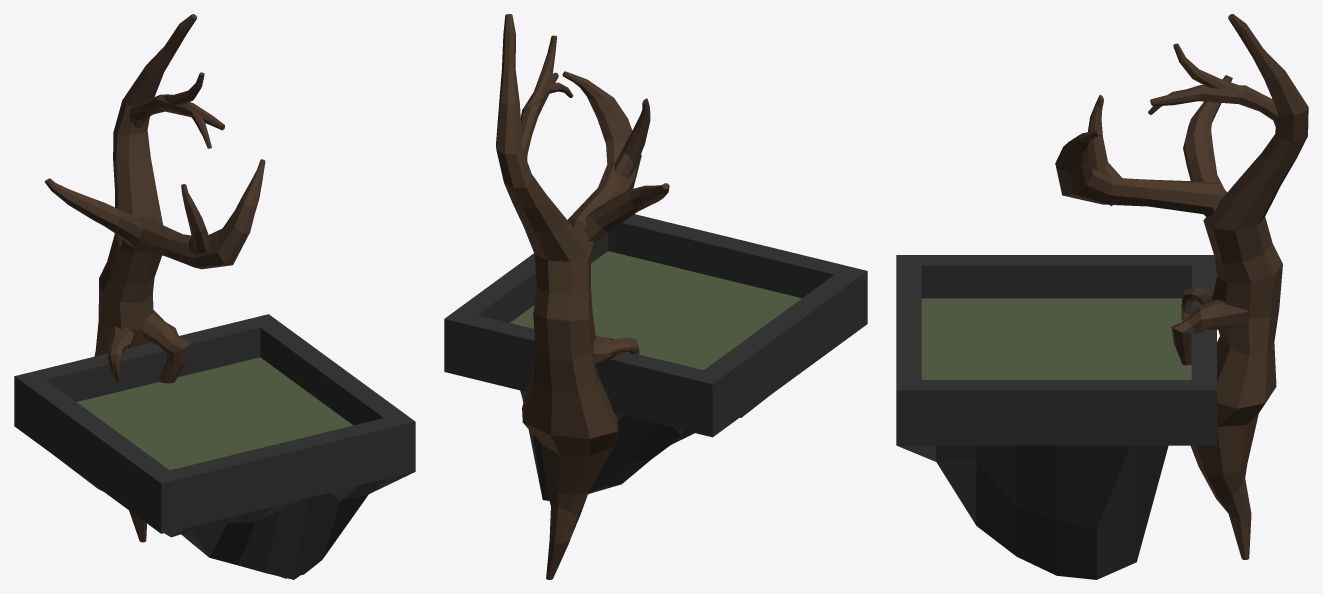
File: MazePlanet.fbx
3 views of the same model, side by side, from view 1: azimuth 30°, elevation 25°; view 2: azimuth 150°, elevation 25°; view 3: azimuth 270°, elevation 25° (orthographic). The views are drawn at different scales.
Visible parts, largest first — view 1: Cube.001; view 2: Cube.001; view 3: Cube.001.
Boxes of the visible parts, left/top/right/bottom form: Cube.001: left=14, top=14, right=415, bottom=579; Cube.001: left=444, top=14, right=867, bottom=579; Cube.001: left=896, top=14, right=1308, bottom=579.
Size of the model in its own units: 118 by 231 by 152.
